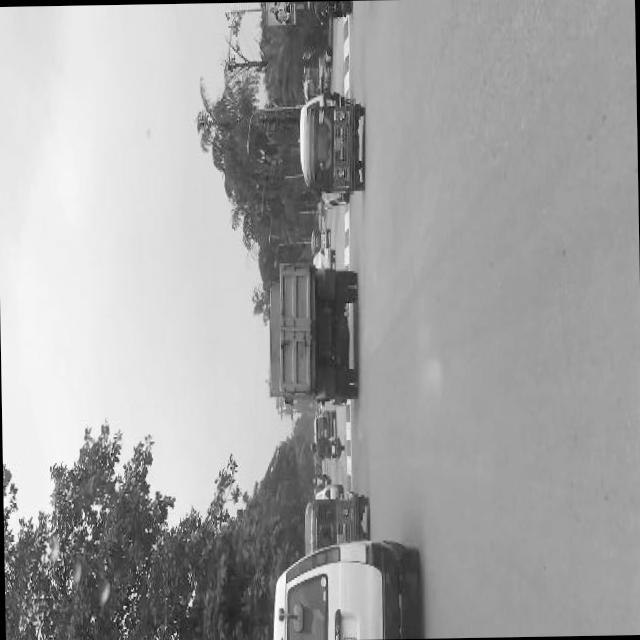car: (312, 406, 334, 432), (312, 245, 333, 265)
motorcycle: (299, 98, 364, 192), (302, 492, 369, 541), (304, 0, 352, 25), (309, 433, 344, 458), (310, 222, 330, 245), (312, 469, 330, 482)
truck: (264, 258, 362, 406), (272, 546, 420, 639)
